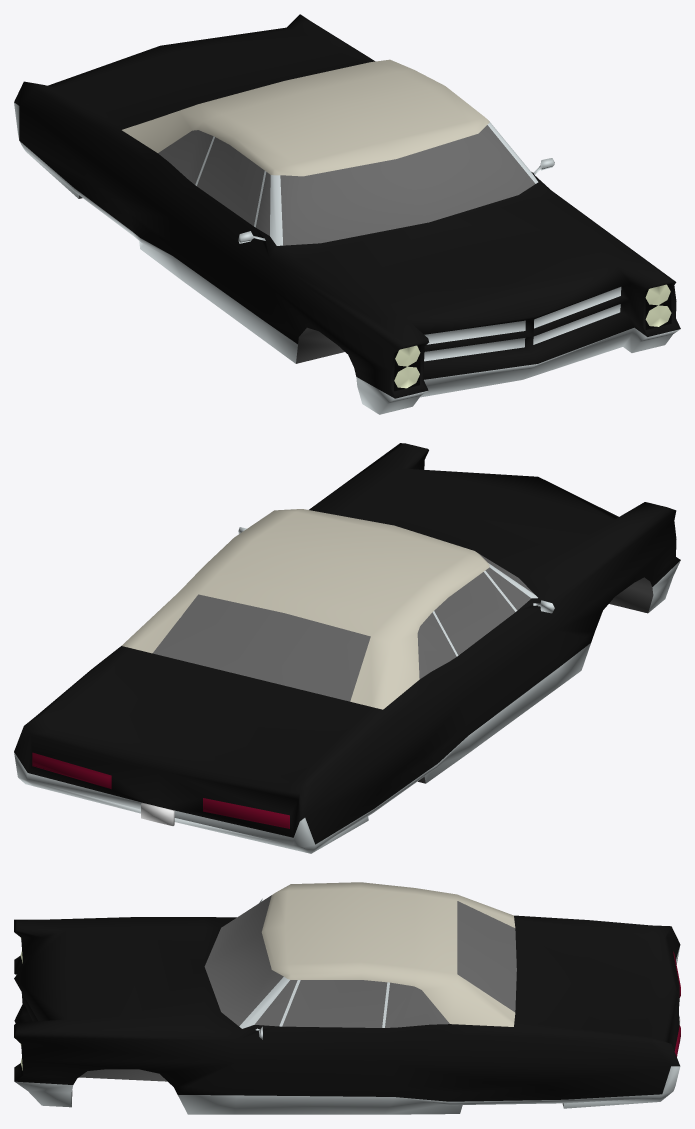
Rendered from pontiac bonneville.fbx.
3 views of the same model, one above another, from view 1: azimuth 30°, elevation 25°; view 2: azimuth 150°, elevation 25°; view 3: azimuth 270°, elevation 25° (orthographic). The views are drawn at different scales.
Visible parts, largest first — view 1: pontiac bonneville; view 2: pontiac bonneville; view 3: pontiac bonneville.
Part boxes in pixels (left/top/right/bottom): pontiac bonneville: left=14, top=14, right=680, bottom=414; pontiac bonneville: left=14, top=443, right=680, bottom=853; pontiac bonneville: left=14, top=882, right=680, bottom=1114.
Size of the model in its own units: 3.1 by 1.4 by 6.48.
